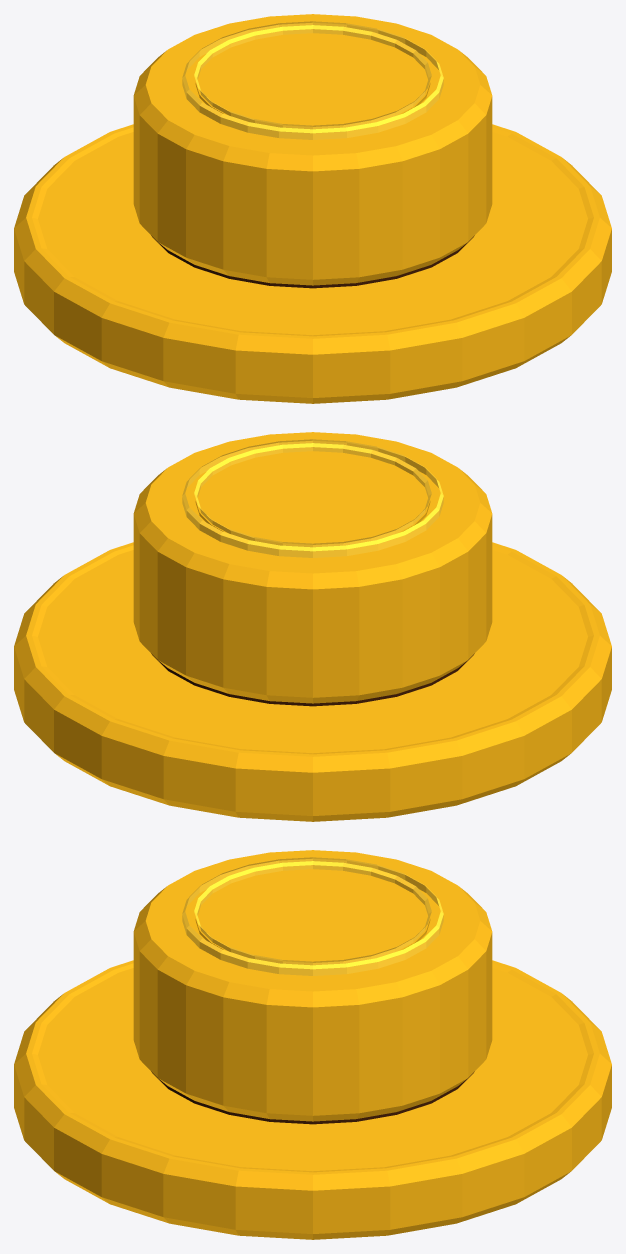
The model's file is Podium_Full.fbx.
The picture shows the model from 3 angles, top to bottom: view 1: azimuth 30°, elevation 25°; view 2: azimuth 150°, elevation 25°; view 3: azimuth 270°, elevation 25°; orthographic projection.
Parts seen in each view (by area): view 1: Podium_Gold, Podium_Rim; view 2: Podium_Gold, Podium_Rim; view 3: Podium_Gold, Podium_Rim.
Part boxes in pixels (x1,y1,x2,y2): Podium_Gold: [14, 14, 611, 403]; Podium_Rim: [182, 21, 443, 139]; Podium_Gold: [14, 432, 611, 821]; Podium_Rim: [182, 439, 443, 557]; Podium_Gold: [14, 850, 611, 1239]; Podium_Rim: [182, 857, 443, 975].
Size of the model in its own units: 4 by 1.53 by 4.
